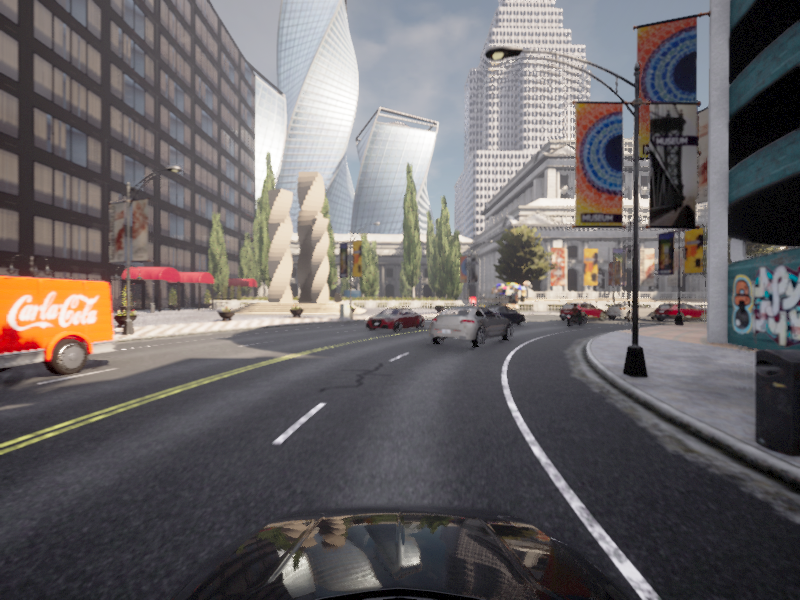vehicle: (422, 305, 515, 350), (361, 307, 427, 333), (467, 304, 528, 329), (706, 302, 778, 321), (649, 302, 712, 322), (602, 302, 661, 321), (554, 302, 610, 322), (655, 304, 720, 319), (562, 303, 589, 327)
